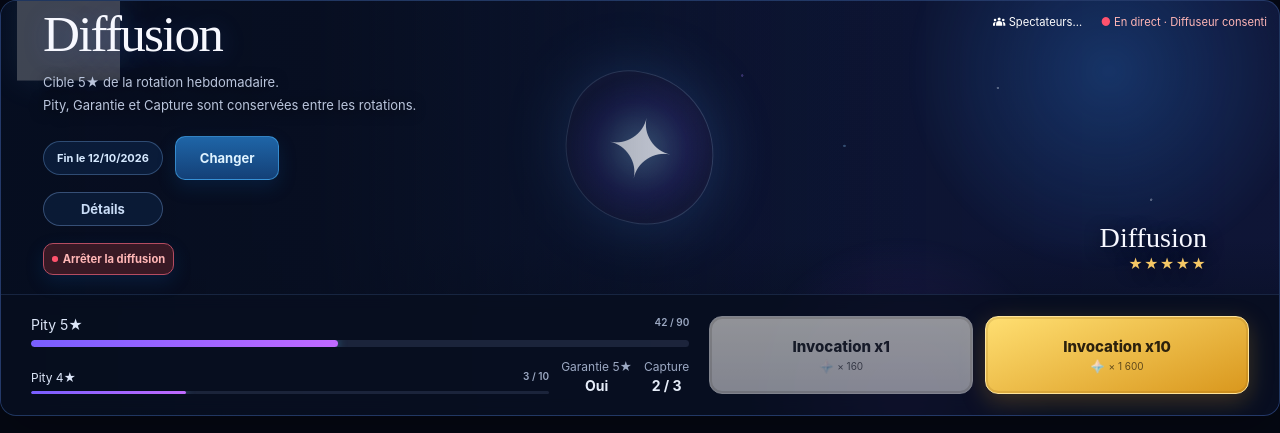
it: reuses only the matching primary invocation button for an explicit preserved intent, including failure and busy guards
Expected: the button with class "wish-button" showing "Invocation x1 × 160" is disabled, [709,316,973,394]
Click the button with class "wish-button" showing "Invocation x10 × 1 600".
click(1117, 355)  # box [985,316,1249,394]
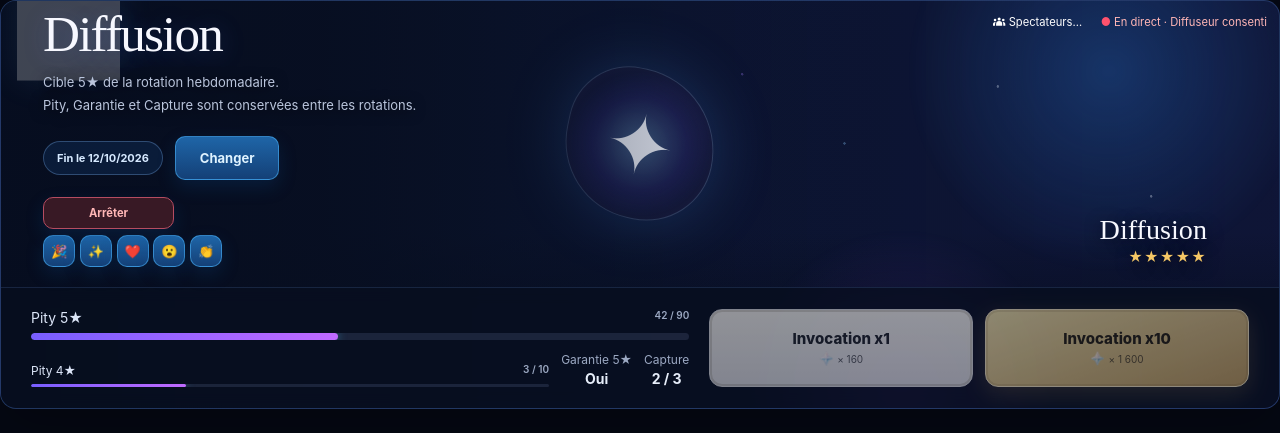
Now the button with class "detail" is gone
